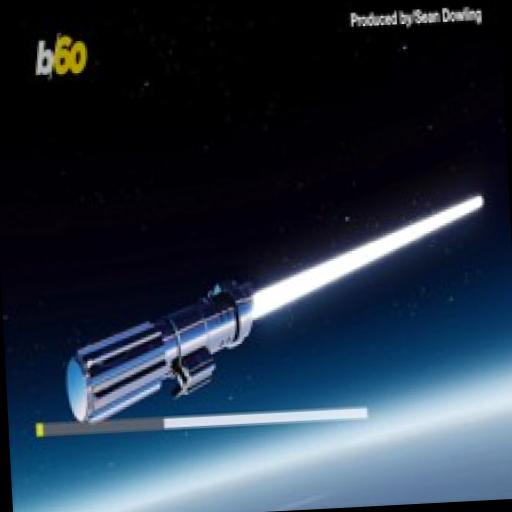lightsaber: (52, 188, 500, 419)
